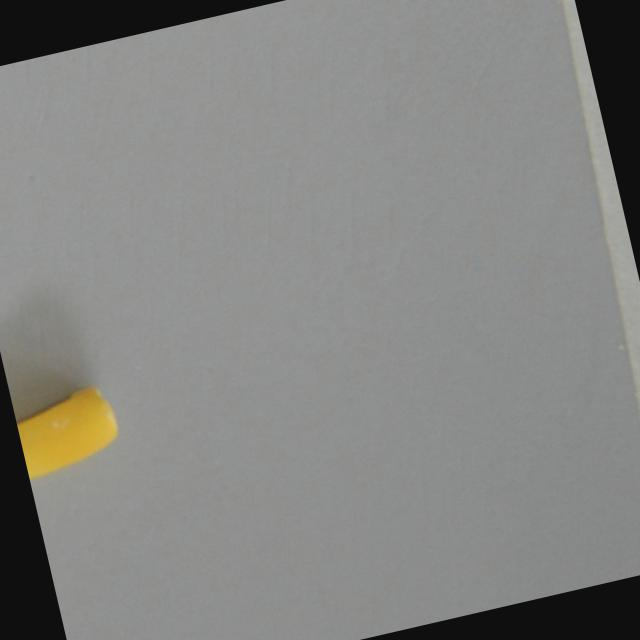estandar: (12, 384, 129, 487)
